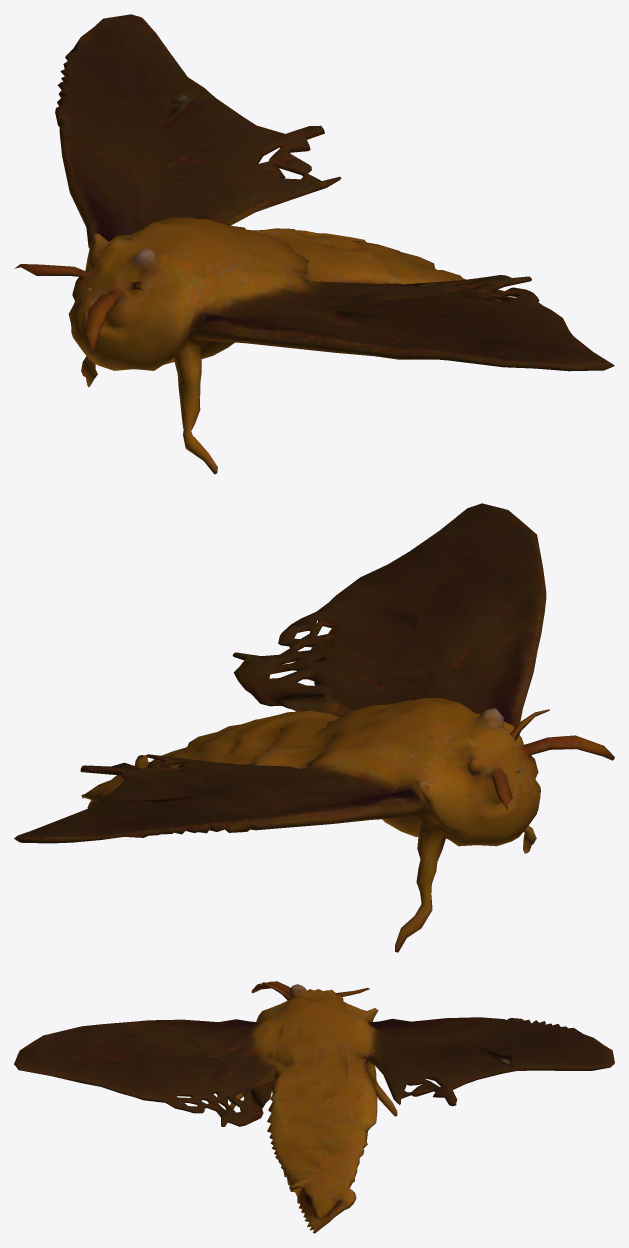
File: drift_moth.glb
The picture shows the model from 3 angles, top to bottom: view 1: azimuth 30°, elevation 25°; view 2: azimuth 150°, elevation 25°; view 3: azimuth 270°, elevation 25°; orthographic projection. The views are drawn at different scales.
Visible parts, largest first — view 1: base_model_path; view 2: base_model_path; view 3: base_model_path.
Boxes of the visible parts, bbox=[...] form: base_model_path: bbox=[14, 14, 614, 474]; base_model_path: bbox=[14, 503, 614, 952]; base_model_path: bbox=[14, 981, 614, 1233].
Bounding box in the file's own units: 0.6 × 0.2306 × 0.9987.
Materials: 1 (1 with a texture image).
